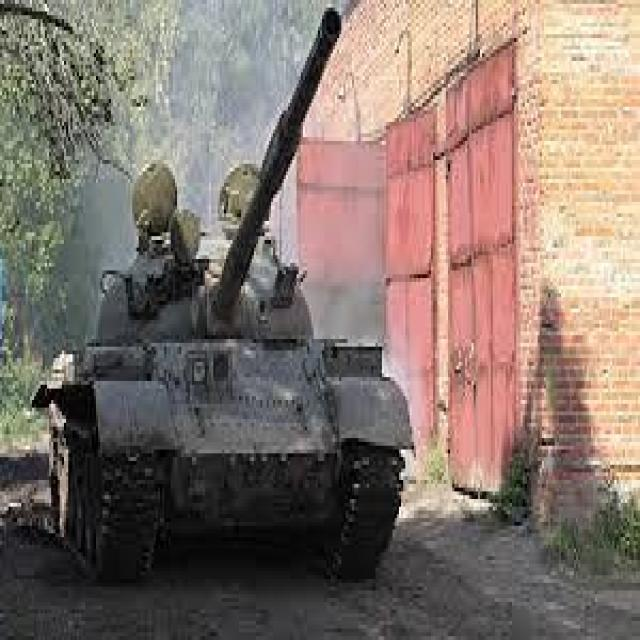Tanks: (33, 4, 421, 606)
